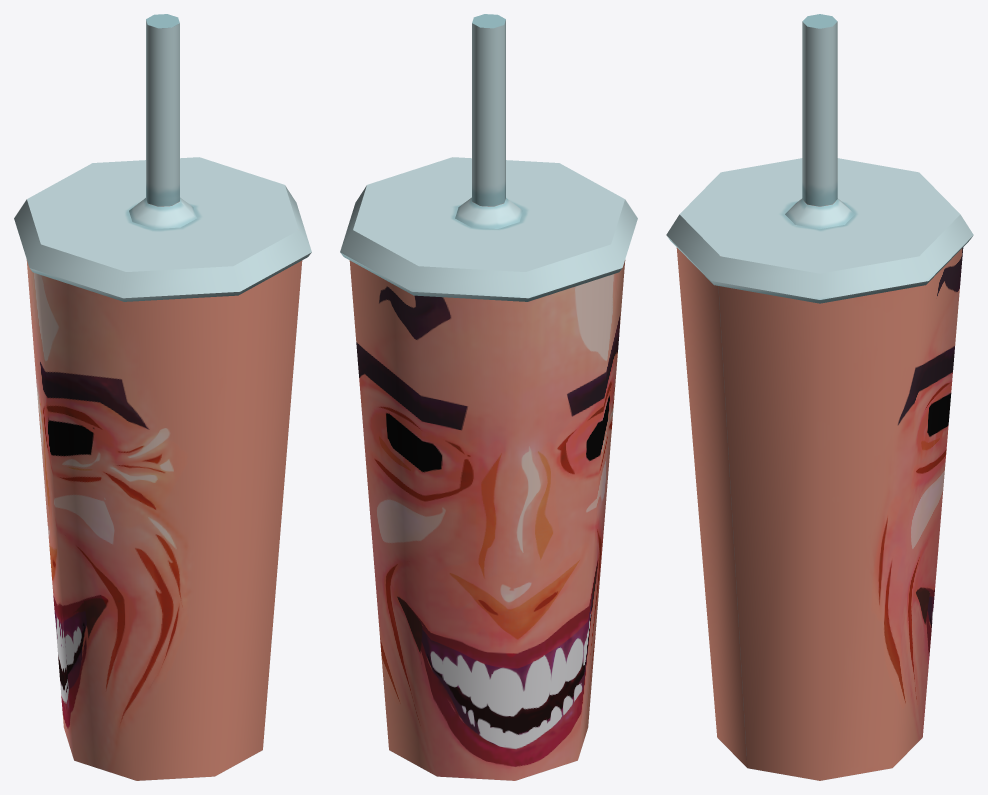
Rendered from cupmodel.fbx.
3 views of the same model, side by side, from view 1: azimuth 30°, elevation 25°; view 2: azimuth 150°, elevation 25°; view 3: azimuth 270°, elevation 25° (orthographic).
Visible parts, largest first — view 1: cup; view 2: cup; view 3: cup.
Boxes of the visible parts, x1,y1,x2,y2 form: cup: (14, 14, 311, 780); cup: (340, 14, 637, 780); cup: (666, 14, 973, 780).
Size of the model in its own units: 2.62 by 6.73 by 2.62.
Materials: 1 (1 with a texture image).
